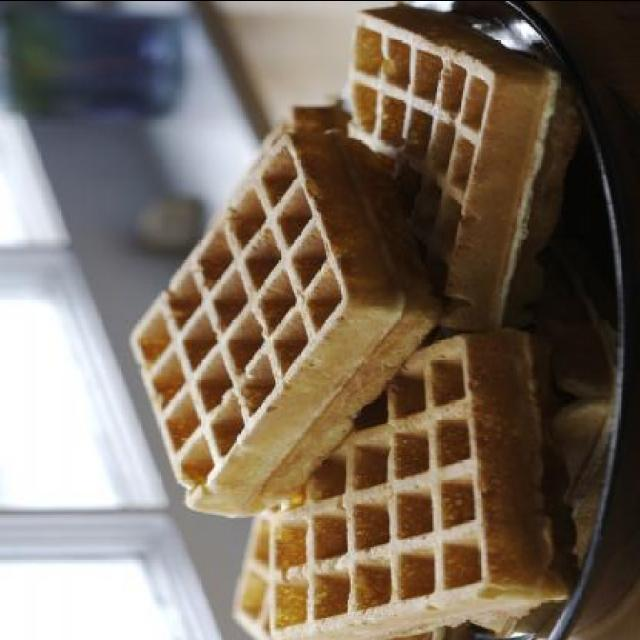Waffle: (130, 0, 574, 640)
